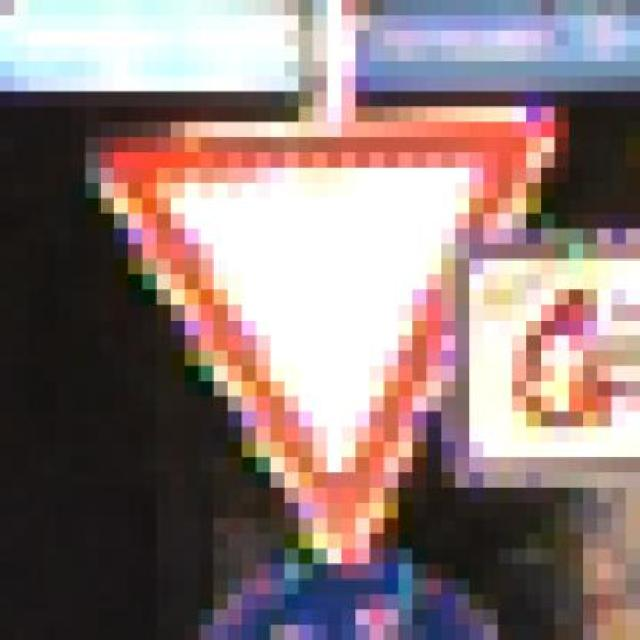Give Way: (39, 85, 608, 604)
